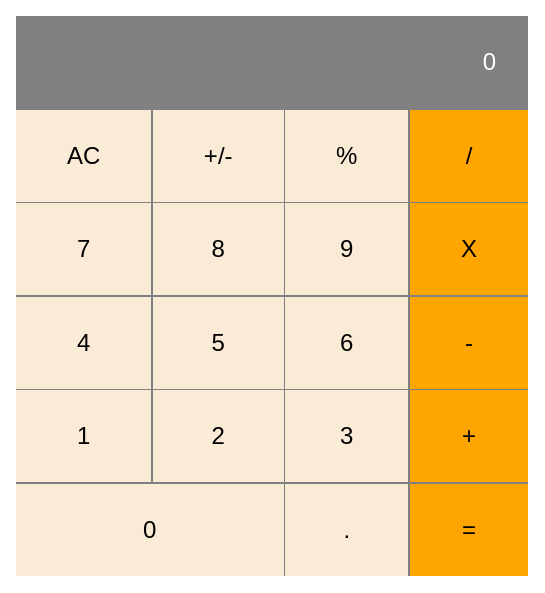
+ button rendered inbetween number in result area
Click the button with test id "no-1". click: x=84, y=436
box: [16,390,151,482]
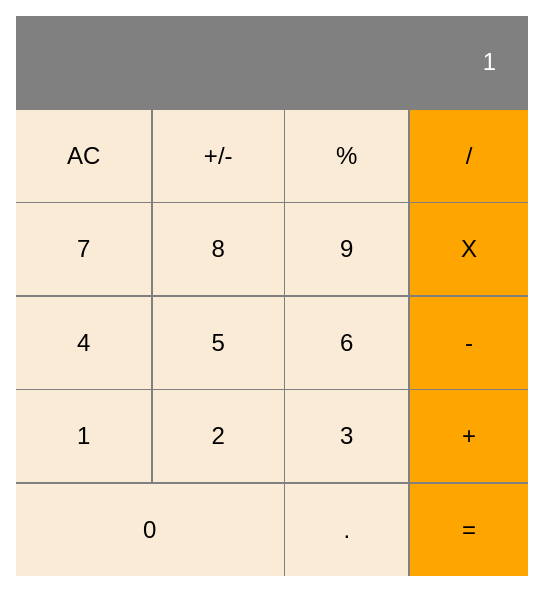
Click the button with test id "no-2". click: x=218, y=436
box: [153,390,284,482]
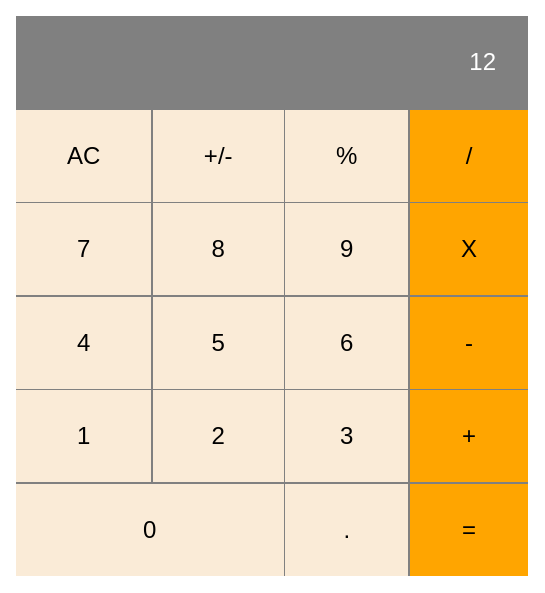
Click the button with test id "+". click: x=469, y=436
box: [410,390,528,482]
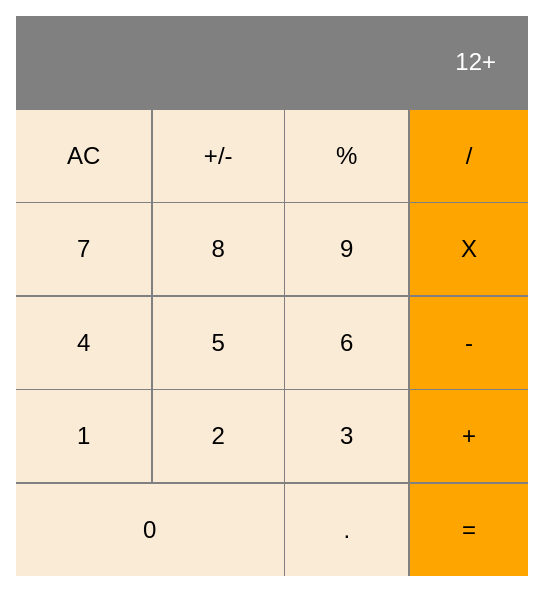
Click the button with test id "no-3". click: x=347, y=436
box: [285,390,408,482]
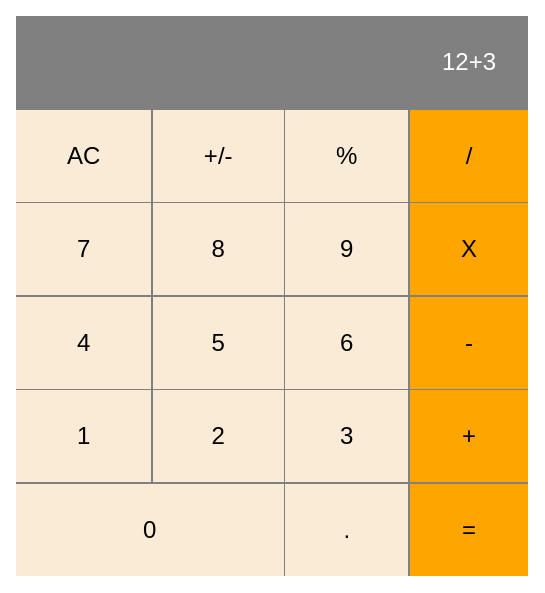
Result: the text with test id "result" reads "12+3" at [16,16,528,108]
